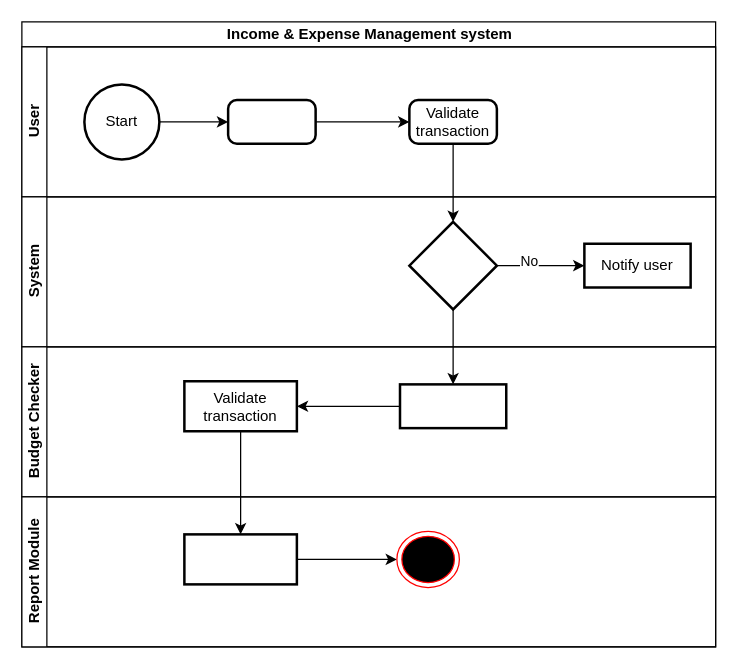
Image size: 738x669. Some labels were removed from this diagram. The centre of each missing label's shape, as x and y in pixels:
"Exceeds budget" belongs at point (453, 265).
"Login" belongs at point (271, 121).
"Store transaction" belongs at point (452, 405).
"Update reports" belongs at point (240, 558).
